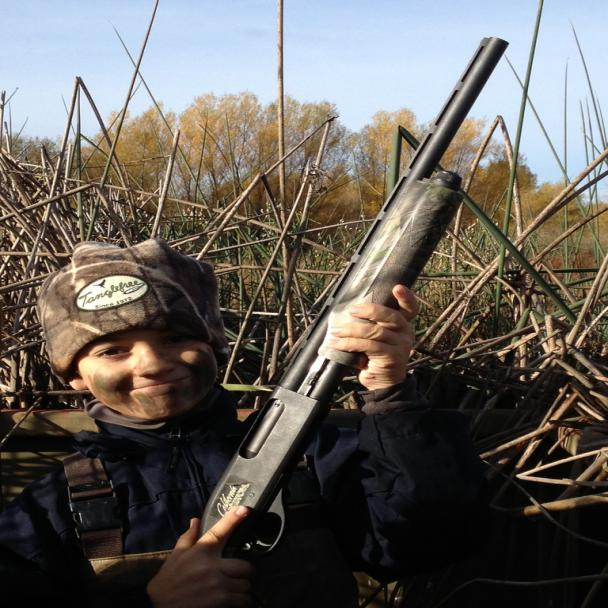Gun: (152, 23, 522, 607)
Hand: (326, 271, 451, 420), (148, 500, 269, 607)
